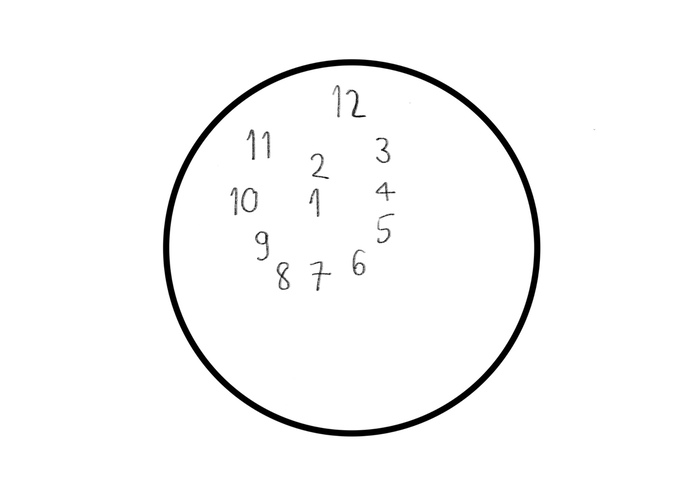eight: (276, 257, 293, 293)
eleven: (244, 124, 273, 164)
five: (373, 211, 396, 247)
four: (370, 176, 395, 203)
nine: (251, 226, 272, 263)
one: (304, 186, 325, 218)
seven: (308, 254, 332, 291)
six: (349, 245, 367, 278)
ten: (228, 184, 262, 216)
three: (373, 131, 393, 165)
twelve: (329, 82, 367, 120)
two: (308, 149, 334, 183)
